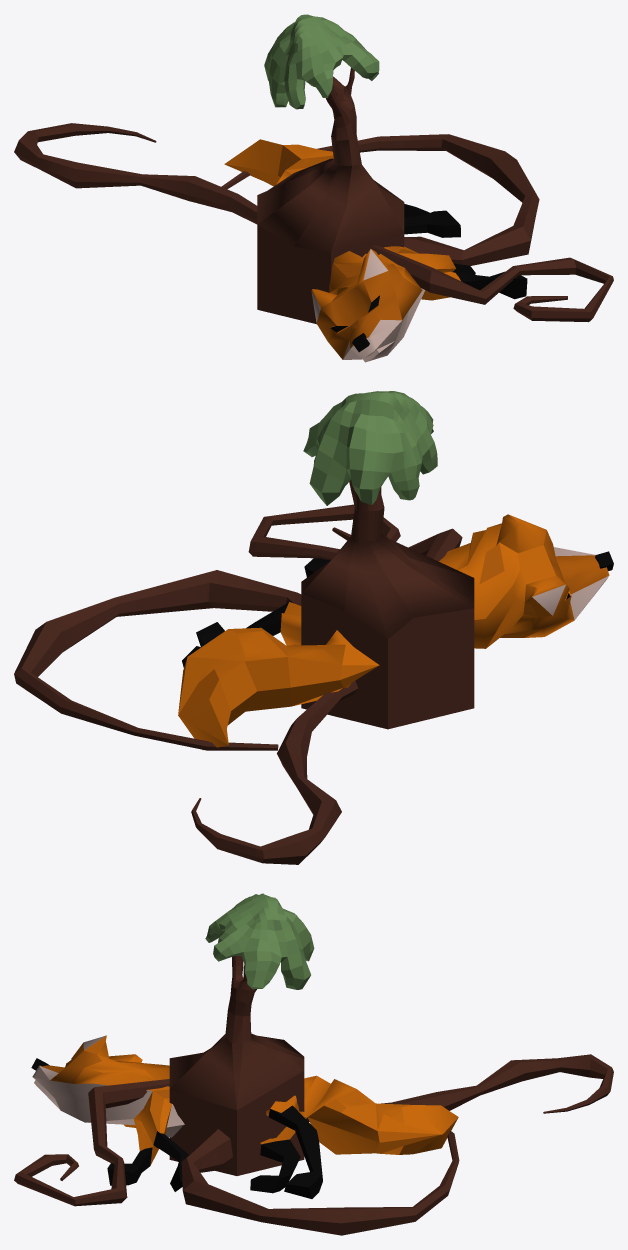
File: foz.fbx
3 views of the same model, one above another, from view 1: azimuth 30°, elevation 25°; view 2: azimuth 150°, elevation 25°; view 3: azimuth 270°, elevation 25° (orthographic). The views are drawn at different scales.
Visible parts, largest first — view 1: fox_pose1; view 2: fox_pose1; view 3: fox_pose1.
Boxes of the visible parts, left/top/right/bottom form: fox_pose1: left=14, top=14, right=613, bottom=362; fox_pose1: left=14, top=391, right=613, bottom=864; fox_pose1: left=14, top=893, right=613, bottom=1235.
Bounding box in the file's own units: 0.7879 × 0.5485 × 1.22.
